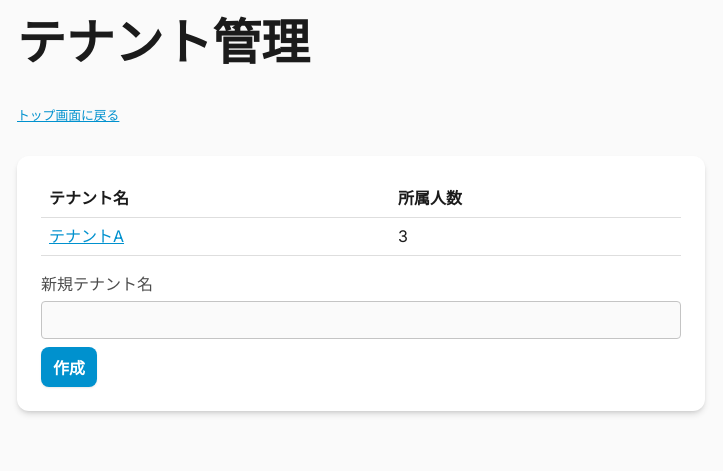
it: admin tenants page › テナントを作成すると一覧に追加する
Type "テナントB" into the field labelled "新規テナント名".
click(361, 320); type("テナントB")  # box [41,301,681,339]
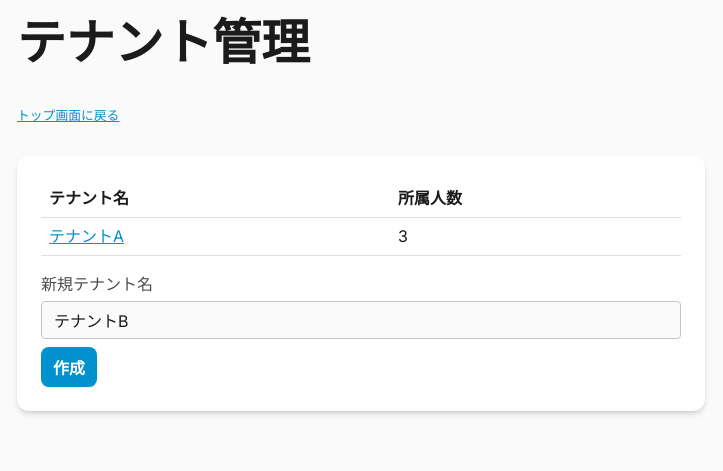
Click the button "作成".
click(69, 367)  # box [41,347,97,387]
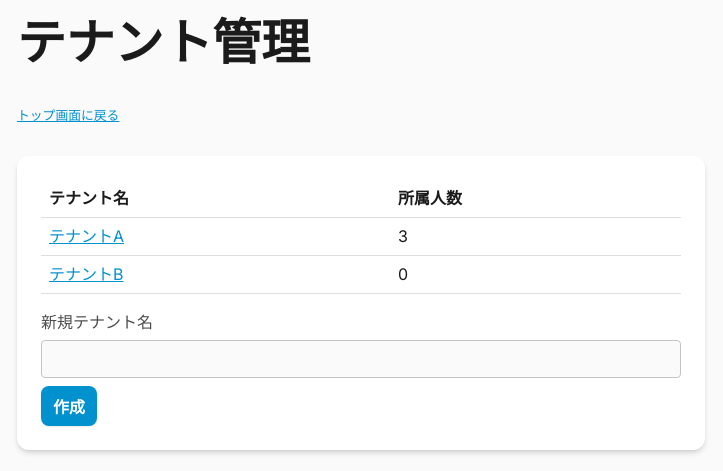
Check: the link "テナントB" is shown, box [49,264,124,284]
